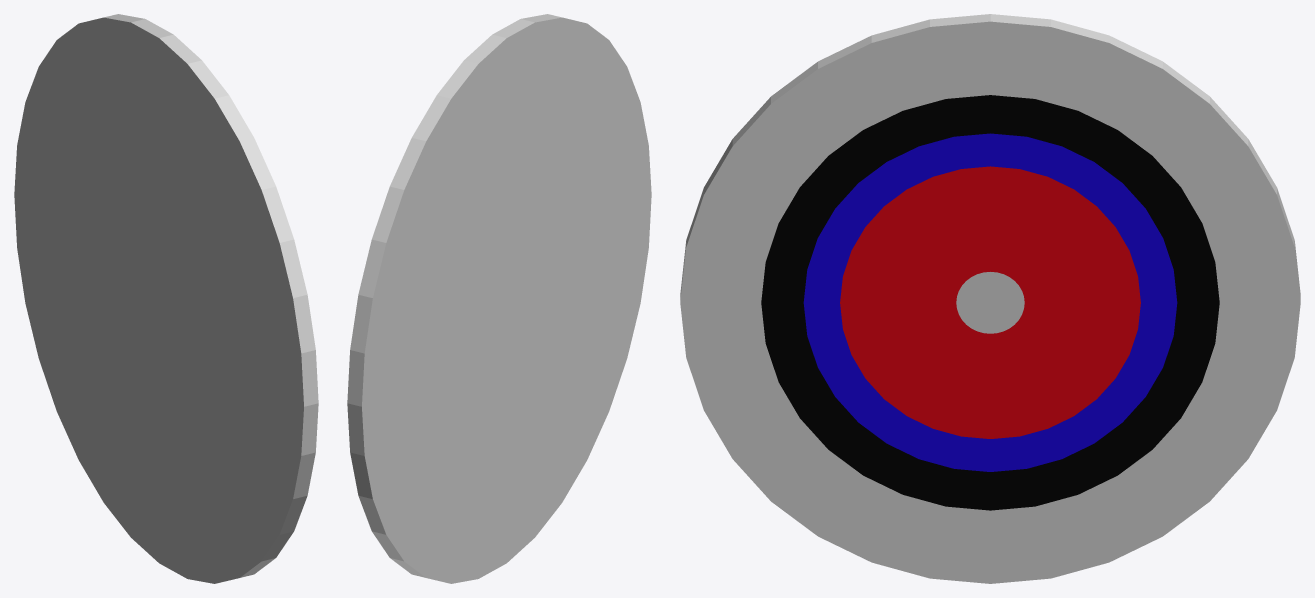
The model's file is matoFBX.fbx.
3 renders of one model, left to right at view 1: azimuth 30°, elevation 25°; view 2: azimuth 150°, elevation 25°; view 3: azimuth 270°, elevation 25°, orthographic. The views are drawn at different scales.
Visible parts, largest first — view 1: 円柱.002, 円柱.004, 円柱.003, 円柱.001; view 2: 円柱.002, 円柱.004, 円柱.003, 円柱.001; view 3: 円柱.002, 円柱.004, 円柱.001, 円柱.003.
Part boxes in pixels (<box>): 円柱.002: <box>14,20,173,515</box>; 円柱.004: <box>173,114,318,569</box>; 円柱.003: <box>114,299,263,583</box>; 円柱.001: <box>94,14,242,298</box>; 円柱.002: <box>347,115,520,583</box>; 円柱.004: <box>521,19,651,435</box>; 円柱.003: <box>462,278,597,581</box>; 円柱.001: <box>423,14,571,277</box>; 円柱.002: <box>959,46,1300,567</box>; 円柱.004: <box>680,45,959,520</box>; 円柱.001: <box>841,14,1138,298</box>; 円柱.003: <box>797,299,1090,583</box>.
Size of the model in its own units: 5.81 by 200 by 200.
